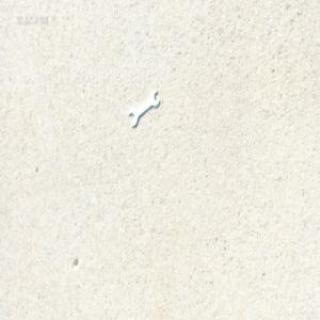Wrenchtrack_idkeyframe: (127, 88, 160, 126)
